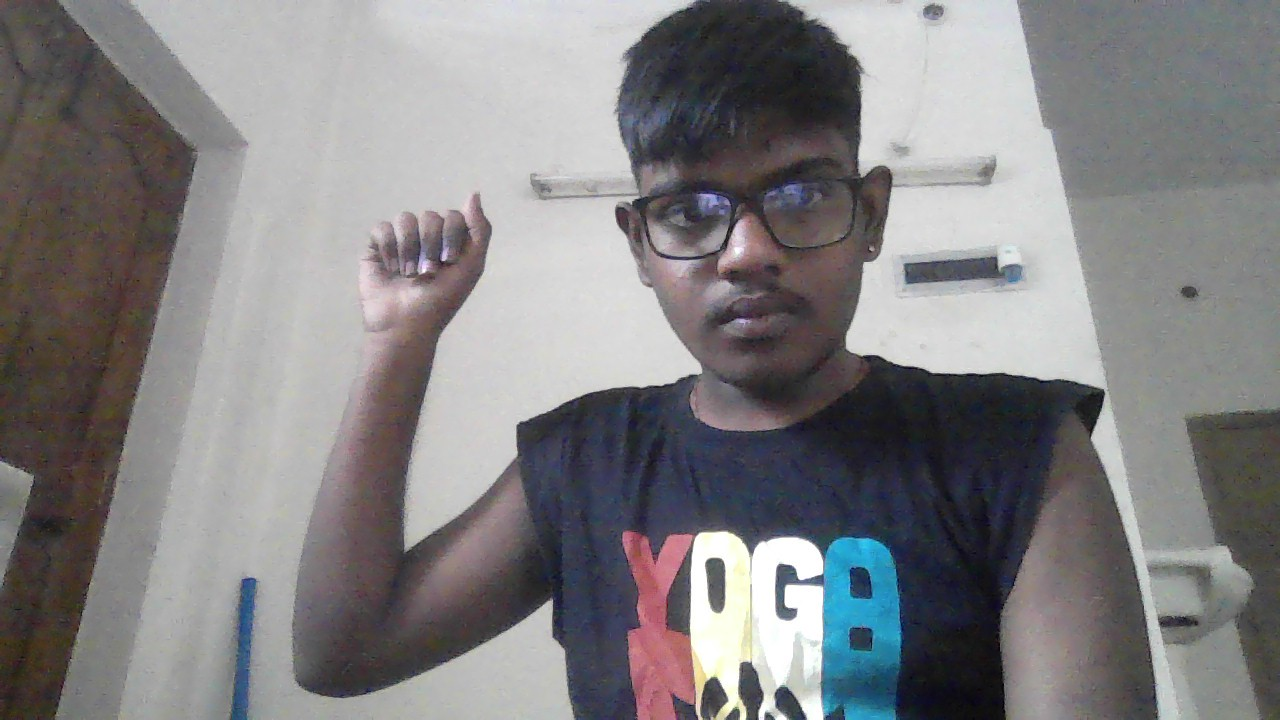A: (358, 192, 492, 323)
